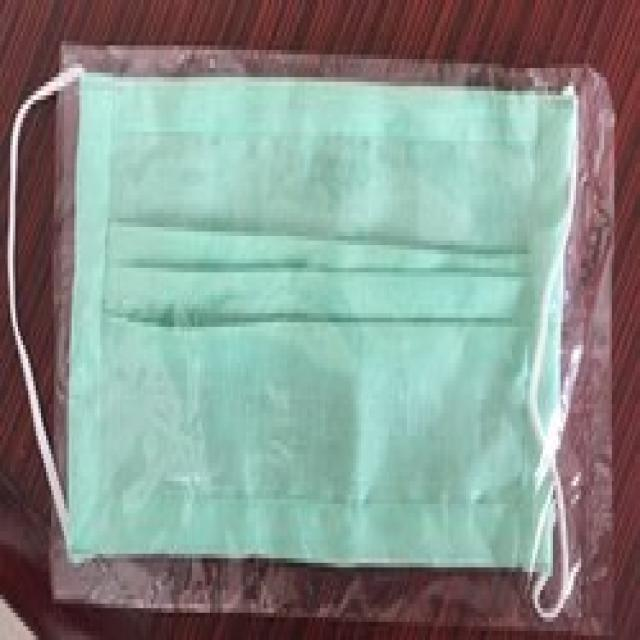face mask: (10, 54, 586, 626)
